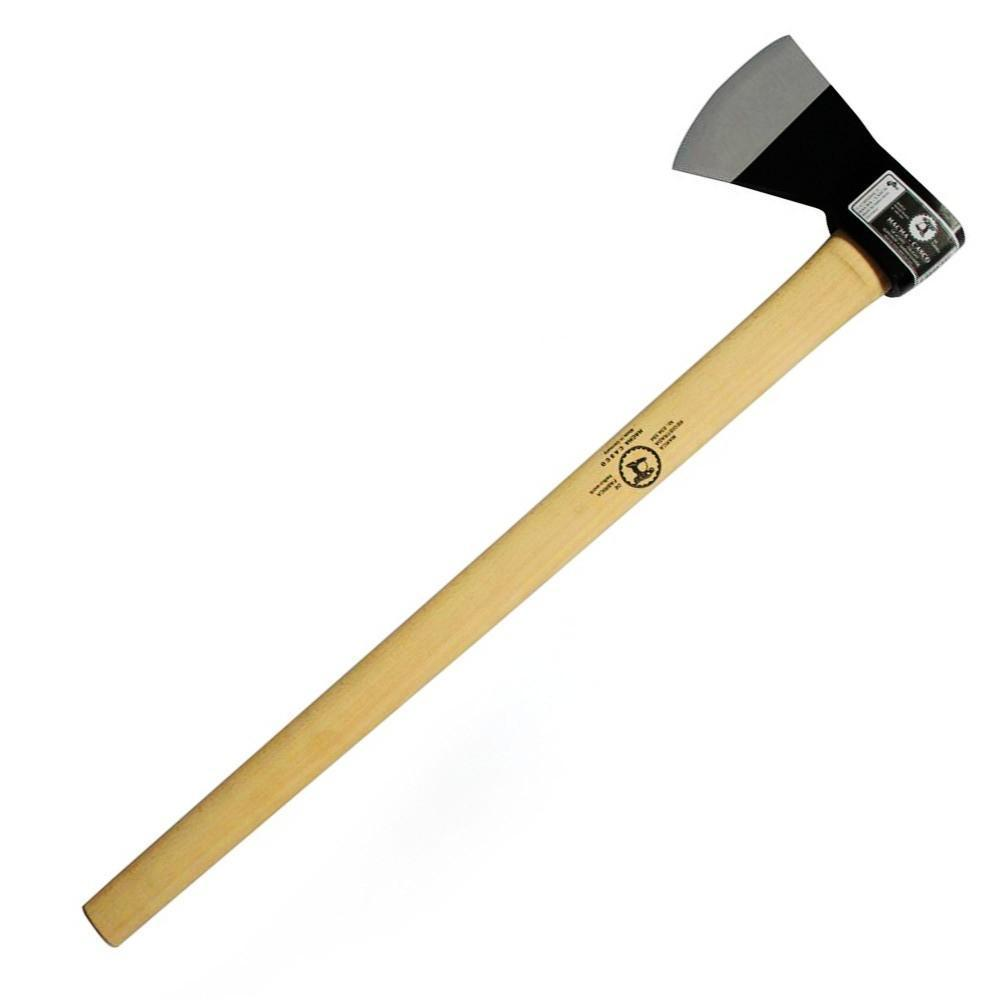machado: (83, 36, 963, 946)
